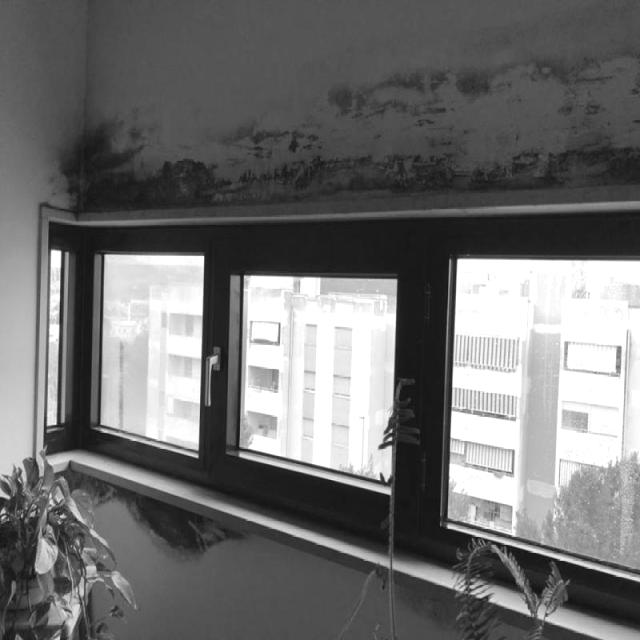stain marks: (0, 11, 639, 225), (120, 475, 256, 566)
